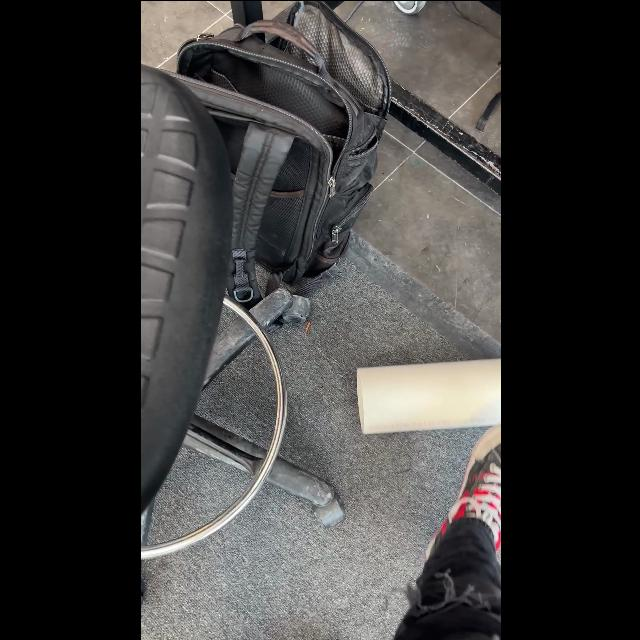CORAL: (354, 356, 498, 434)
